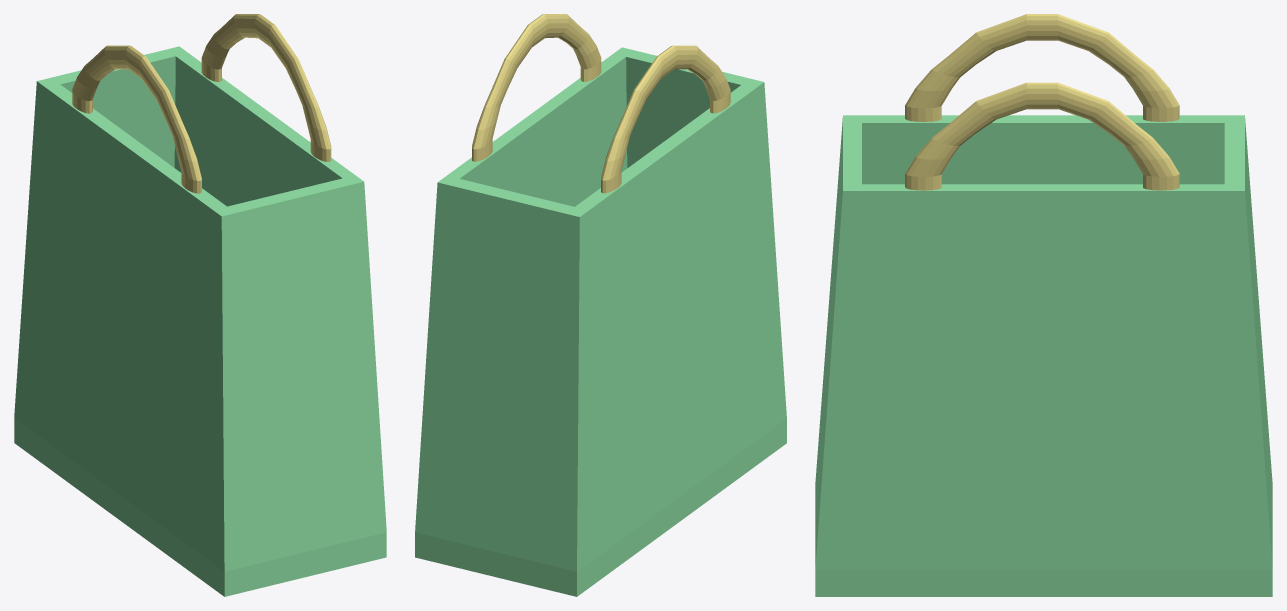
File: Shopping_bag_to_return.fbx
The picture shows the model from 3 angles, left to right: view 1: azimuth 30°, elevation 25°; view 2: azimuth 150°, elevation 25°; view 3: azimuth 270°, elevation 25°; orthographic projection. The views are drawn at different scales.
Parts seen in each view (by area): view 1: bag, Handles.001; view 2: bag, Handles.001; view 3: bag, Handles.001.
Boxes of the visible parts, bbox=[...] form: bag: bbox=[14, 46, 386, 596]; Handles.001: bbox=[72, 14, 331, 193]; bag: bbox=[415, 47, 786, 596]; Handles.001: bbox=[472, 14, 730, 193]; bag: bbox=[815, 115, 1272, 596]; Handles.001: bbox=[905, 14, 1179, 190].
Size of the model in its own units: 262 by 718 by 588.
